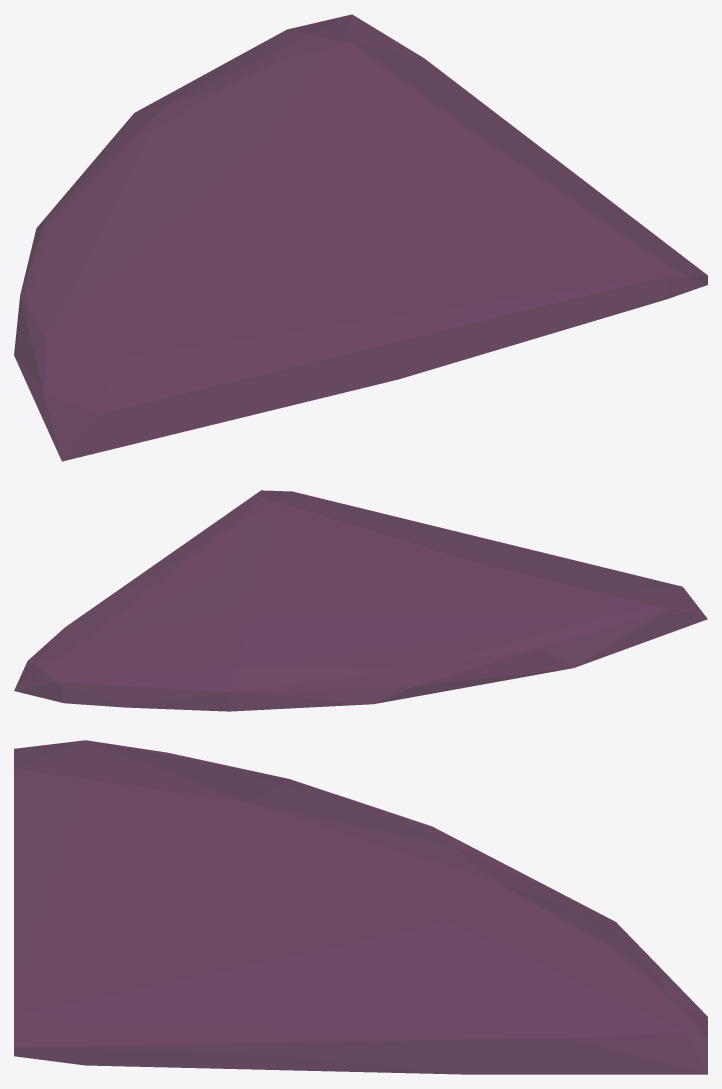
3 views of the same model, one above another, from view 1: azimuth 30°, elevation 25°; view 2: azimuth 150°, elevation 25°; view 3: azimuth 270°, elevation 25° (orthographic). The views are drawn at different scales.
Visible parts, largest first — view 1: Shape_IndexedFaceSet.009_Shape_IndexedFaceSet.10114; view 2: Shape_IndexedFaceSet.009_Shape_IndexedFaceSet.10114; view 3: Shape_IndexedFaceSet.009_Shape_IndexedFaceSet.10114.
Part boxes in pixels (x1,y1,x2,y2): Shape_IndexedFaceSet.009_Shape_IndexedFaceSet.10114: (14,14,707,461); Shape_IndexedFaceSet.009_Shape_IndexedFaceSet.10114: (14,490,707,711); Shape_IndexedFaceSet.009_Shape_IndexedFaceSet.10114: (14,740,707,1074).
Size of the model in its own units: 0.0259 by 0.00219 by 0.0248.
